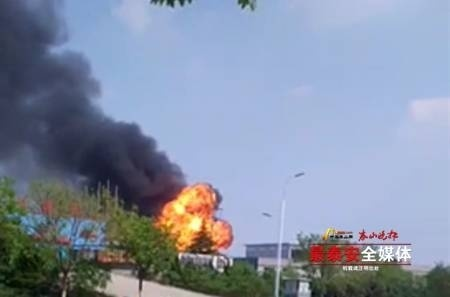fire: (153, 180, 234, 254)
